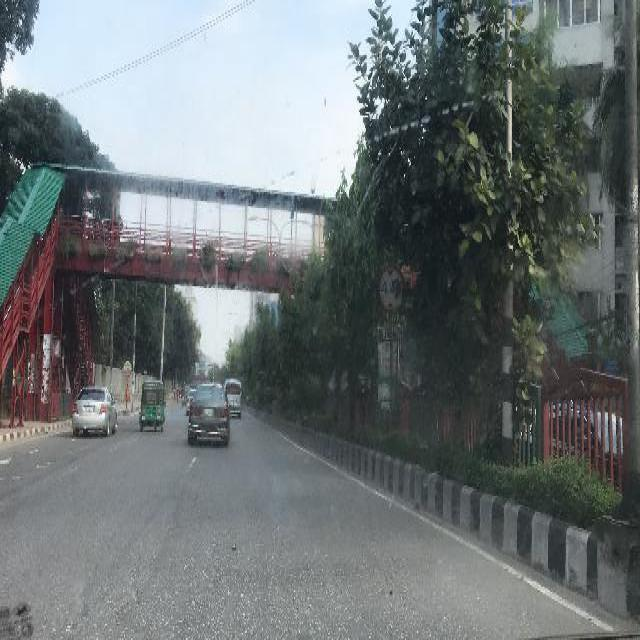car: (71, 384, 118, 437), (189, 382, 226, 441)
motorcycle: (139, 379, 165, 430), (181, 384, 186, 404)
truck: (228, 375, 242, 418)
